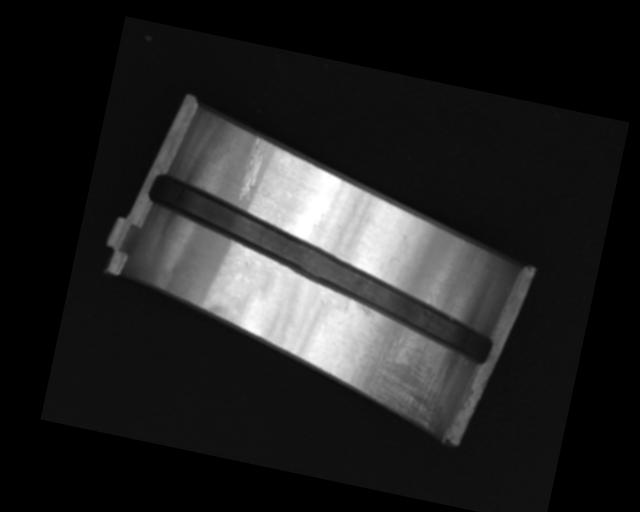gap: (128, 171, 511, 365)
nick: (236, 132, 268, 203)
scratch: (335, 303, 464, 434)
